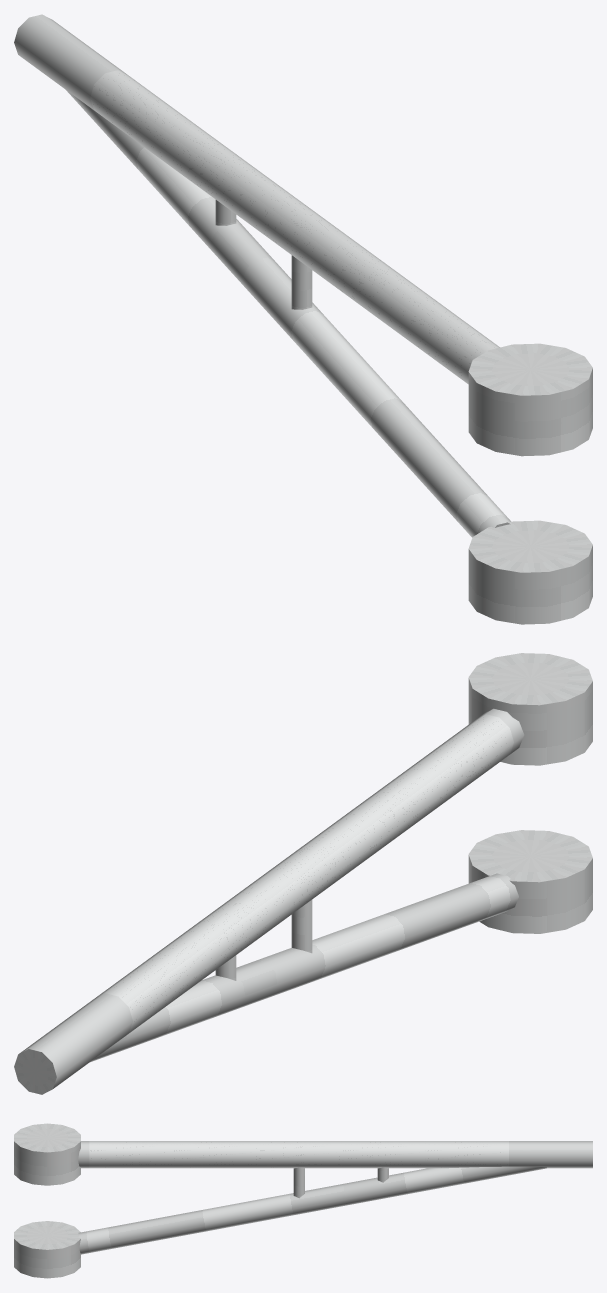
Rendered from trusssignalarm_level6_inv.obj.
The picture shows the model from 3 angles, top to bottom: view 1: azimuth 30°, elevation 25°; view 2: azimuth 150°, elevation 25°; view 3: azimuth 270°, elevation 25°; orthographic projection. The views are drawn at different scales.
Visible parts, largest first — view 1: trusssignalarm_level6_inv; view 2: trusssignalarm_level6_inv; view 3: trusssignalarm_level6_inv.
Boxes of the visible parts, x1,y1,x2,y2 form: trusssignalarm_level6_inv: (14, 14, 592, 624); trusssignalarm_level6_inv: (14, 653, 592, 1094); trusssignalarm_level6_inv: (14, 1123, 592, 1278).
Size of the model in its own units: 0.1187 by 0.2401 by 1.
